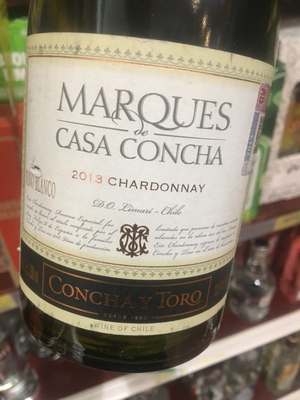marques de casa concha chardonnay: (16, 6, 283, 361)
